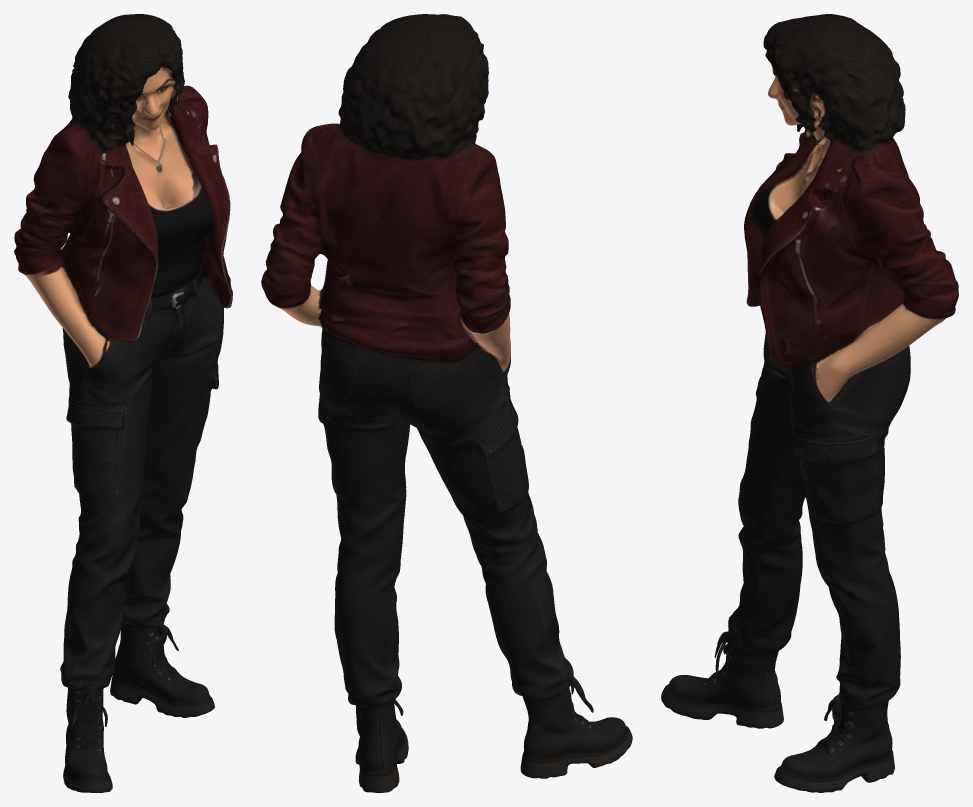
The model's file is musician_base.glb.
The picture shows the model from 3 angles, left to right: view 1: azimuth 30°, elevation 25°; view 2: azimuth 150°, elevation 25°; view 3: azimuth 270°, elevation 25°; orthographic projection. The views are drawn at different scales.
Bounding box in the file's own units: 0.6278 × 1.9 × 0.6875.
Materials: 1 (1 with a texture image).
